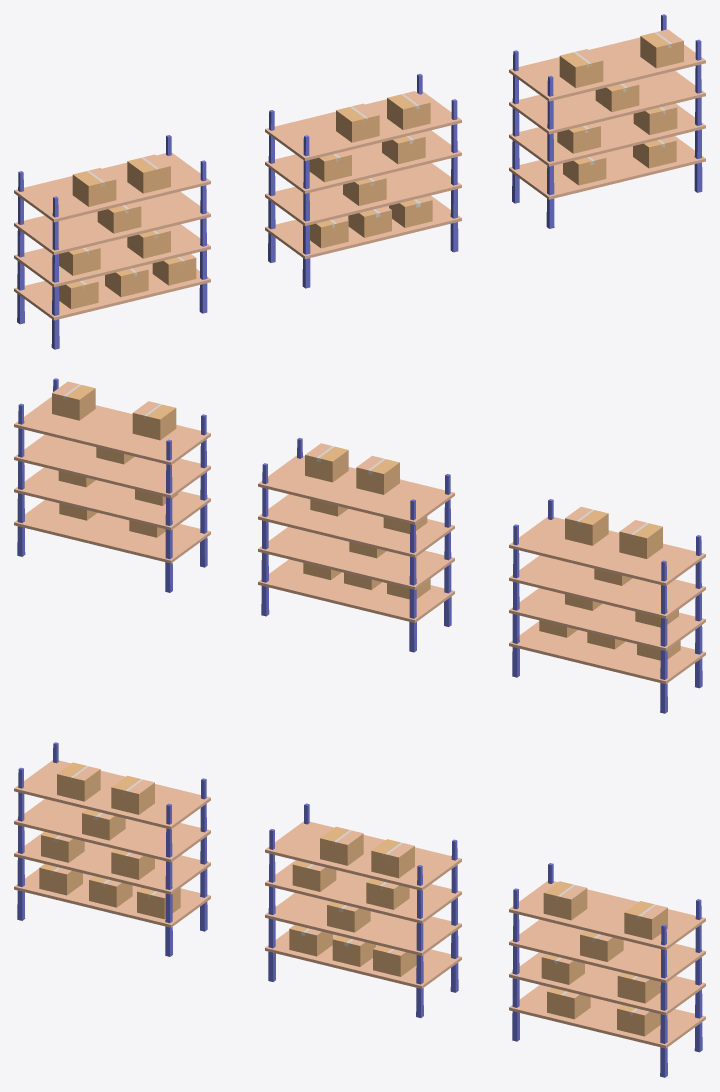
File: boxes and trays.fbx
3 views of the same model, one above another, from view 1: azimuth 30°, elevation 25°; view 2: azimuth 150°, elevation 25°; view 3: azimuth 330°, elevation 25° (orthographic).
Visible parts, largest first — view 1: Cube.019, Cube.003, Cube.012, Cube.022, Cube.014, Cube.006, Cube.011, Cube.004, Cube.021, Cube.020, Cube.005, Cube.013 (+32 smaller); view 2: Cube.022, Cube.006, Cube.014, Cube.019, Cube.003, Cube.012, Cube.021, Cube.011, Cube.020, Cube.004, Cube.005, Cube.013 (+15 smaller); view 3: Cube.003, Cube.019, Cube.012, Cube.022, Cube.006, Cube.014, Cube.011, Cube.021, Cube.020, Cube.004, Cube.005, Cube.013 (+32 smaller).
Boxes of the visible parts, x1,y1,x2,y2 form: Cube.019: [509, 71, 705, 134]; Cube.003: [14, 191, 210, 254]; Cube.012: [265, 163, 461, 225]; Cube.022: [509, 37, 705, 101]; Cube.014: [265, 91, 461, 160]; Cube.006: [14, 152, 210, 222]; Cube.011: [265, 130, 461, 193]; Cube.004: [14, 224, 210, 287]; Cube.021: [509, 136, 705, 199]; Cube.020: [509, 103, 705, 166]; Cube.005: [14, 263, 210, 320]; Cube.013: [265, 195, 461, 259]; Cube.022: [14, 396, 210, 465]; Cube.006: [509, 516, 705, 585]; Cube.014: [258, 455, 454, 524]; Cube.019: [14, 434, 210, 498]; Cube.003: [509, 555, 705, 618]; Cube.012: [258, 527, 454, 589]; Cube.021: [14, 500, 210, 563]; Cube.011: [258, 494, 454, 557]; Cube.020: [14, 467, 210, 530]; Cube.004: [509, 588, 705, 651]; Cube.005: [509, 621, 705, 684]; Cube.013: [258, 559, 454, 622]; Cube.003: [14, 799, 210, 862]; Cube.019: [509, 919, 705, 983]; Cube.012: [265, 893, 461, 955]; Cube.022: [509, 881, 705, 950]; Cube.006: [14, 760, 210, 829]; Cube.014: [265, 821, 461, 890]; Cube.011: [265, 860, 461, 923]; Cube.021: [509, 985, 705, 1048]; Cube.020: [509, 952, 705, 1015]; Cube.004: [14, 831, 210, 894]; Cube.005: [14, 868, 210, 927]; Cube.013: [265, 930, 461, 988].
Size of the model in its own units: 3863 by 864 by 411.
